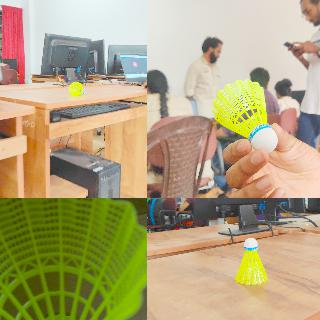shuttlecock: (0, 198, 146, 319), (212, 79, 278, 153), (234, 238, 268, 284), (68, 82, 84, 96)
